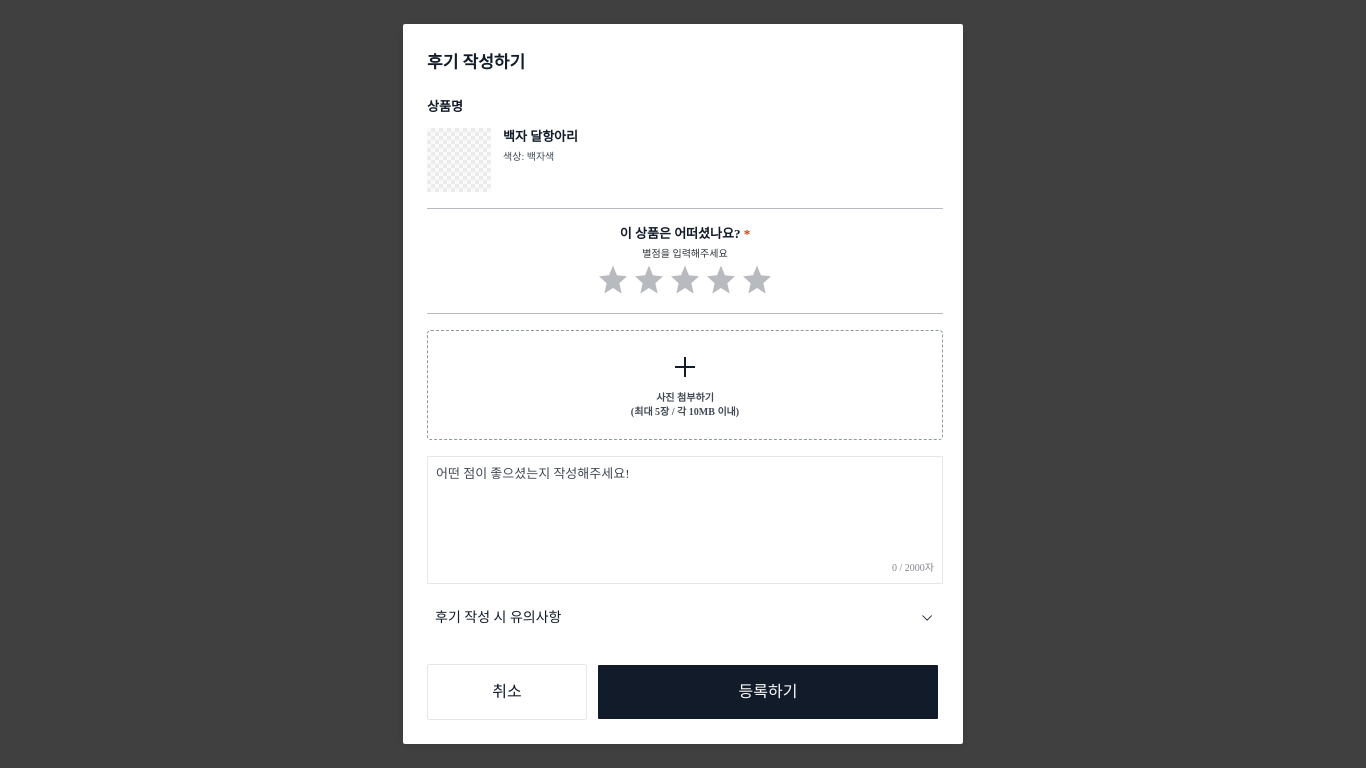
Test case: ReviewFormModal › 0.5점은 서버 최소 별점 안내 후 제출을 막는다
Click the button with test id "review-rating-star-0": (613, 281) [597,265,629,297]
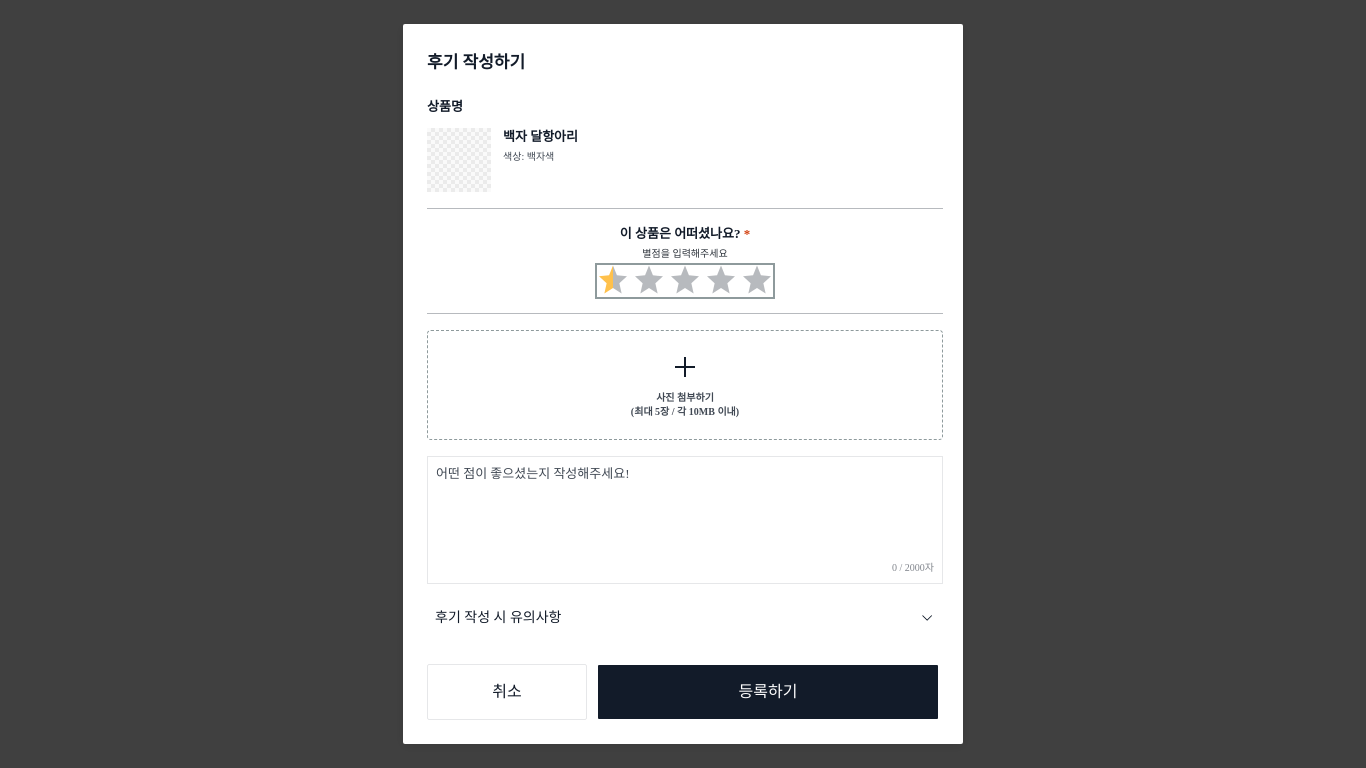
In the text box named "후기 본문": (685, 513) [436,465,934,561], type "후기 내용"
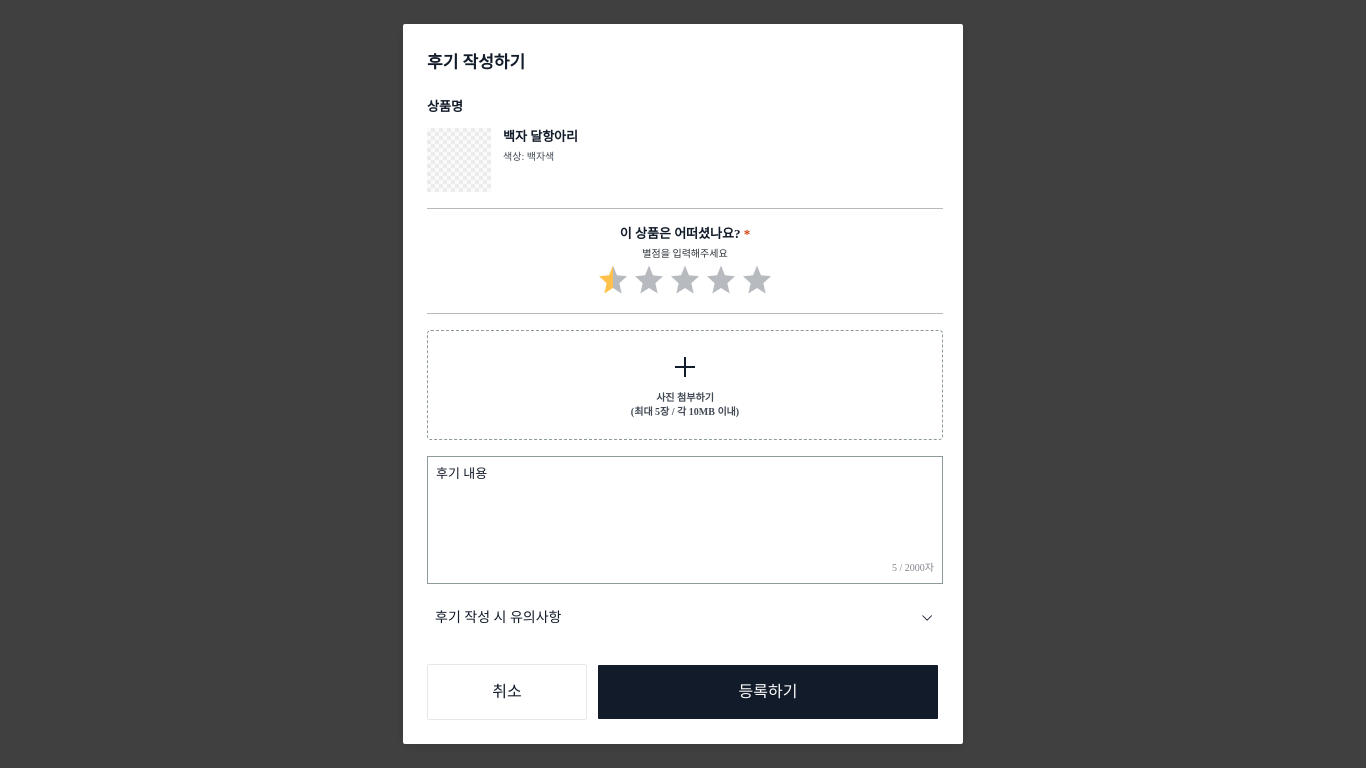
Click the button "등록하기": (768, 692) [597,664,939,720]
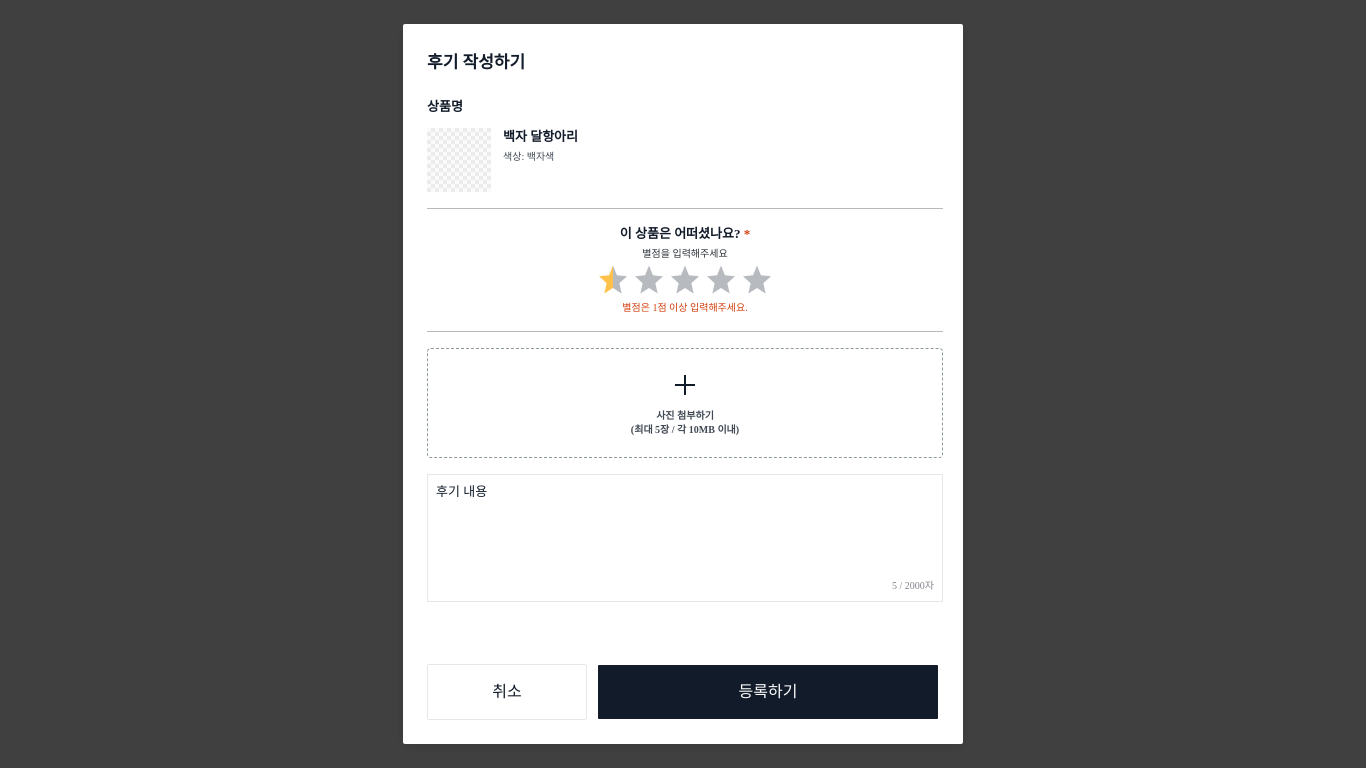
Now the text "별점은 1점 이상 입력해주세요." is shown, box [622,302,748,313]
